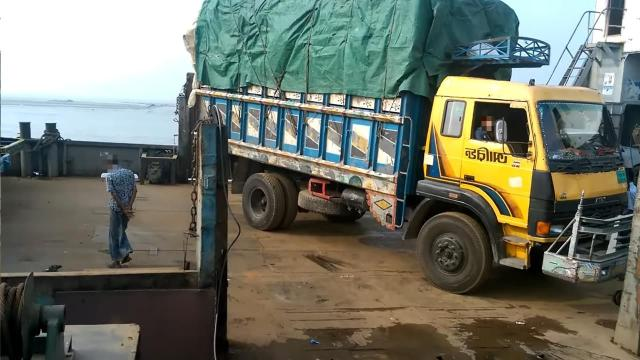truck: (186, 0, 639, 302)
